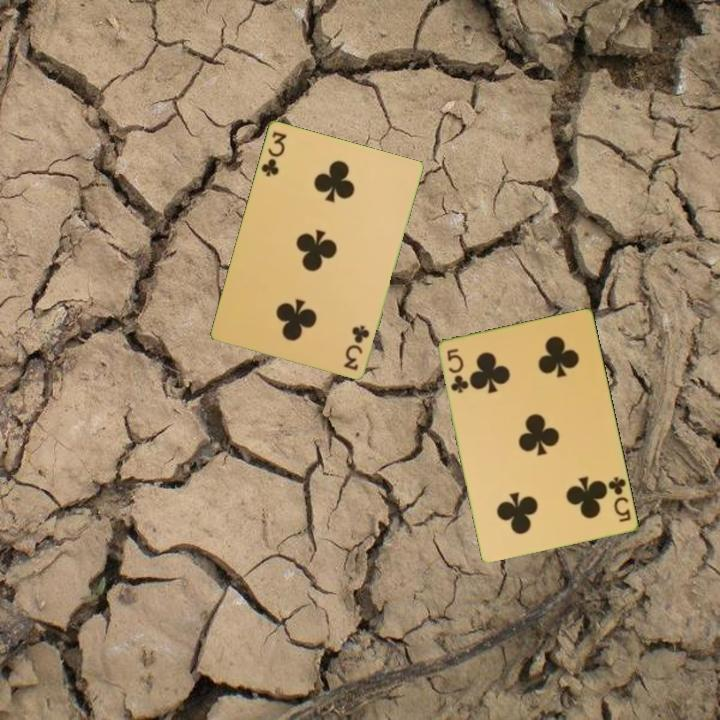3c: (257, 127, 290, 179), (341, 321, 372, 373)
5c: (605, 473, 634, 525), (444, 345, 471, 396)
